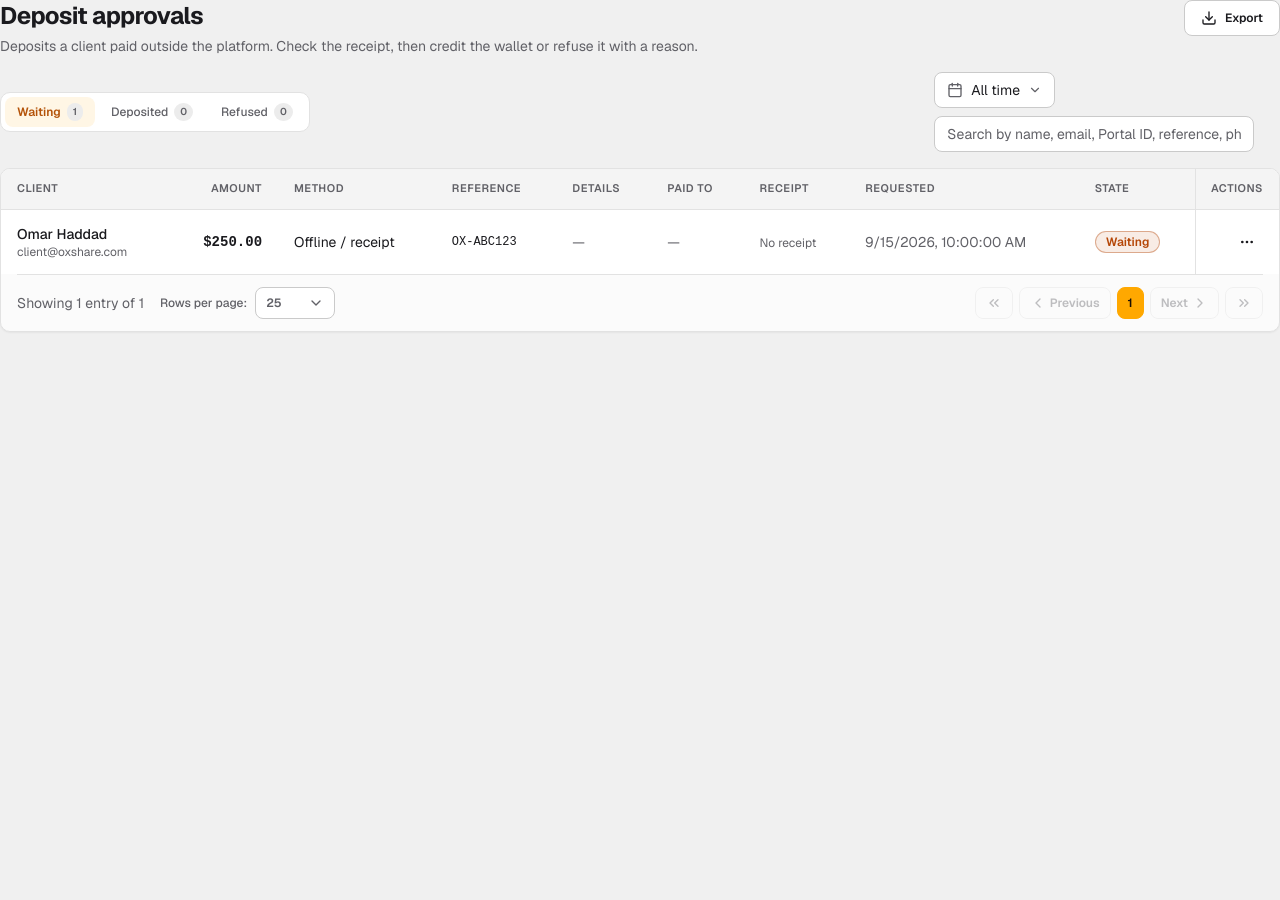
Scenario: the offline deposit queue › warns in the confirm when there is no receipt to check against
The image size is (1280, 900).
Expected: the text "Omar Haddad" is shown, [17,224,107,244]
Step 1. Click the button named "deposit actions" → (1247,242), box [1231,226,1263,258]
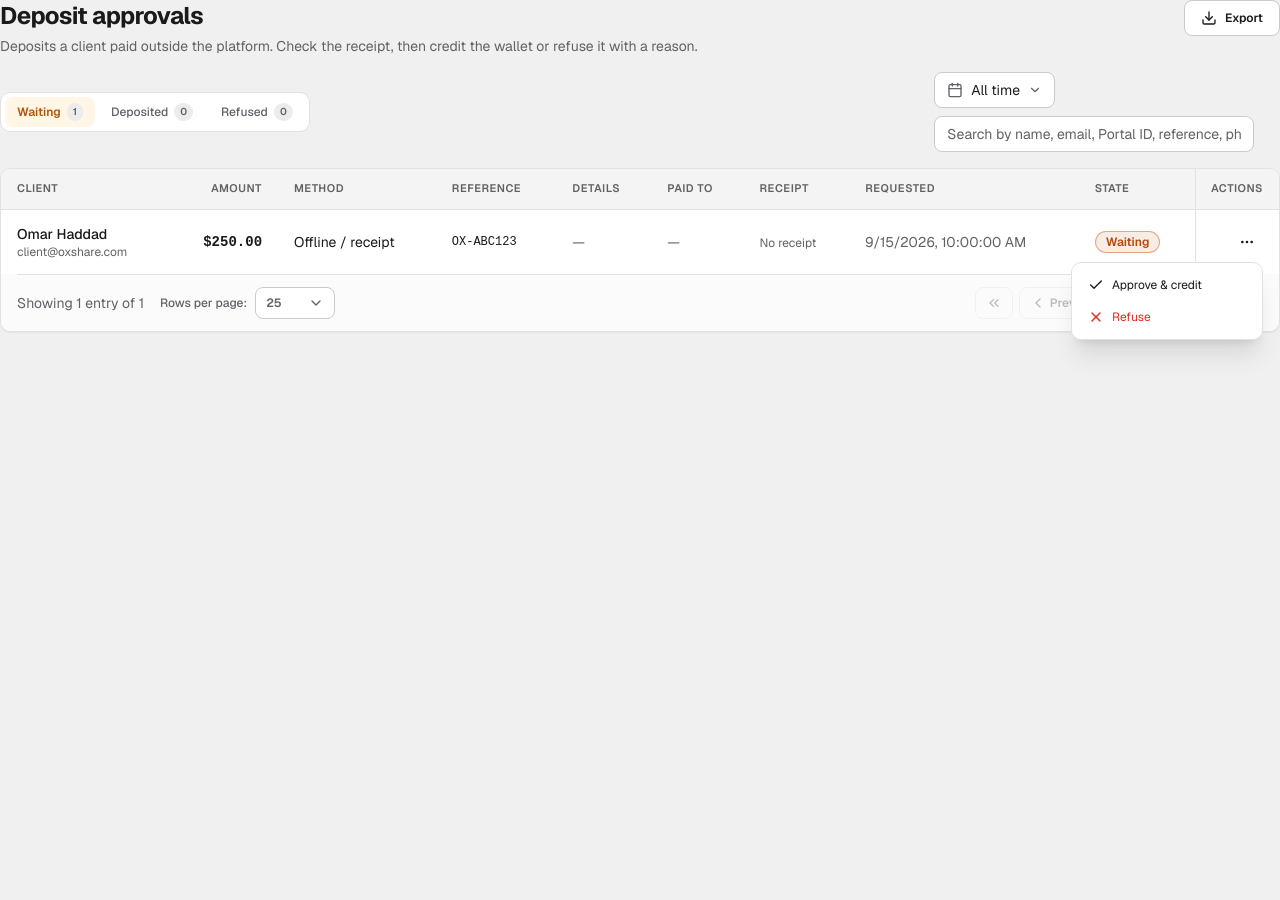
Step 2. Click the menu item "Approve & credit" → (1145,285), box [1088,277,1202,293]
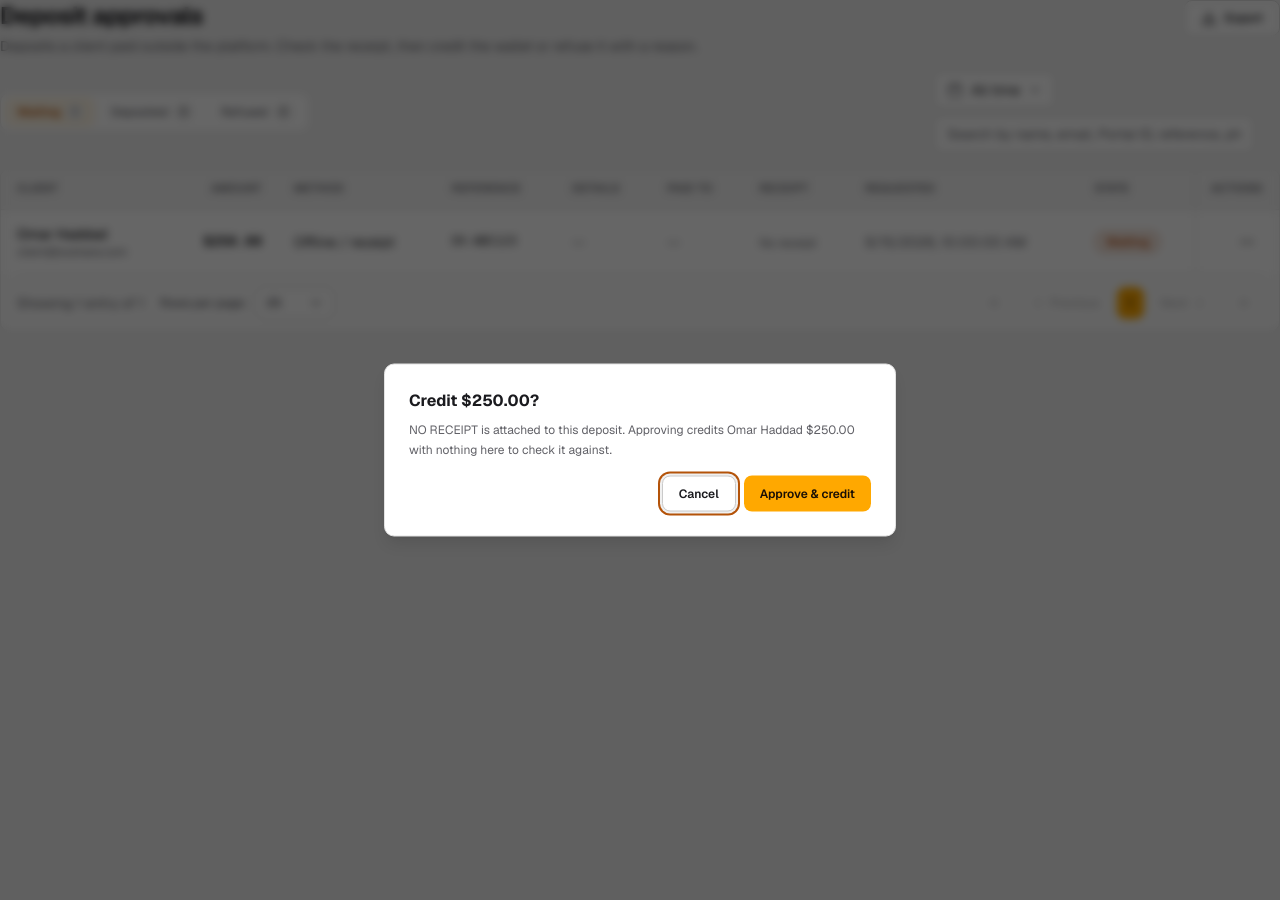
Now the text "NO RECEIPT is attached" is shown, box [409,422,855,457]
